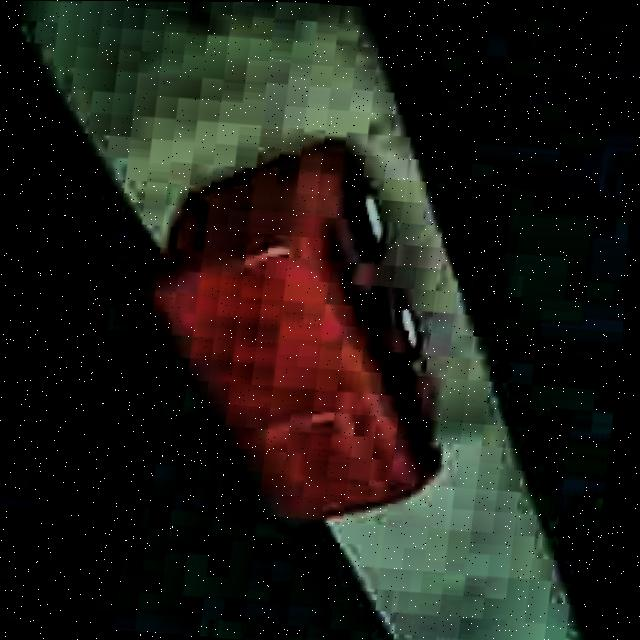bus: (120, 119, 486, 535)
